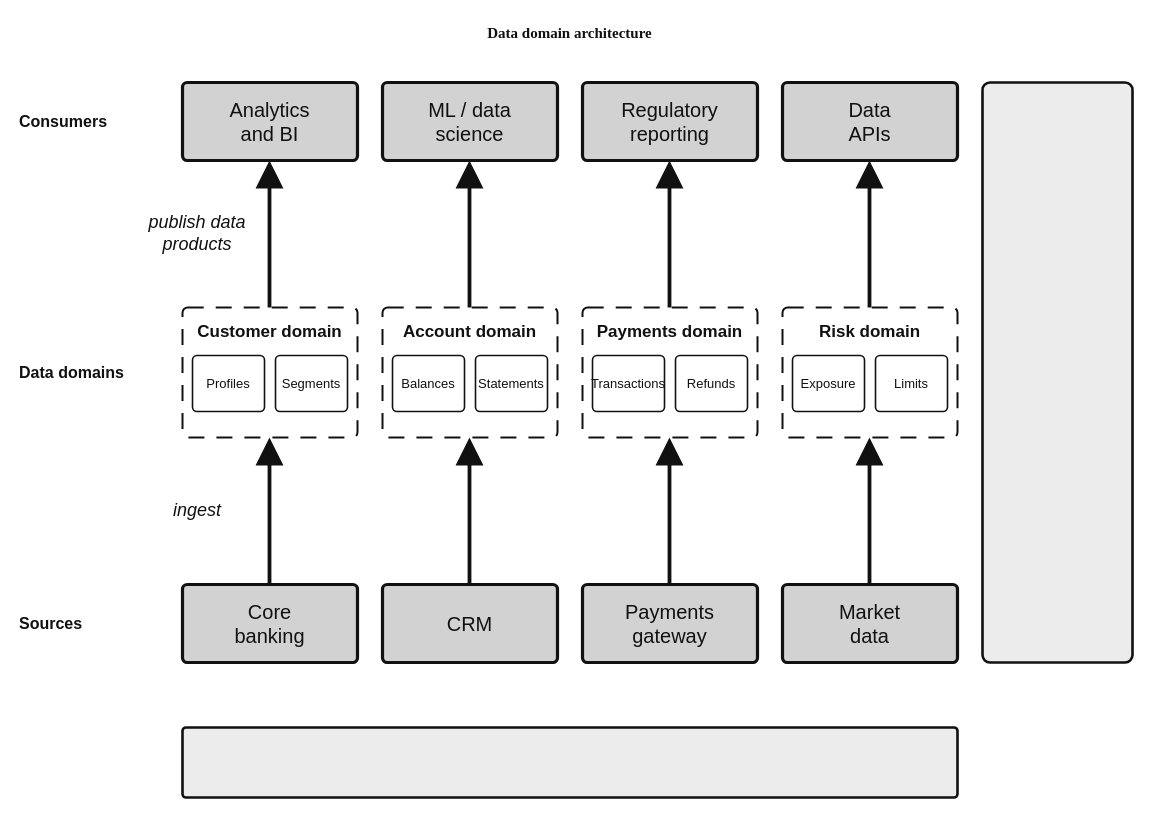
Image size: 1151x816. Some labels were removed from this diagram. Each missing label, with the centre of its shape:
"Federated governance and catalog Policies Lineage Access control" belongs at (1057,372).
"Self-serve data platform - pipelines · storage · catalog · compute" belongs at (569,762).
